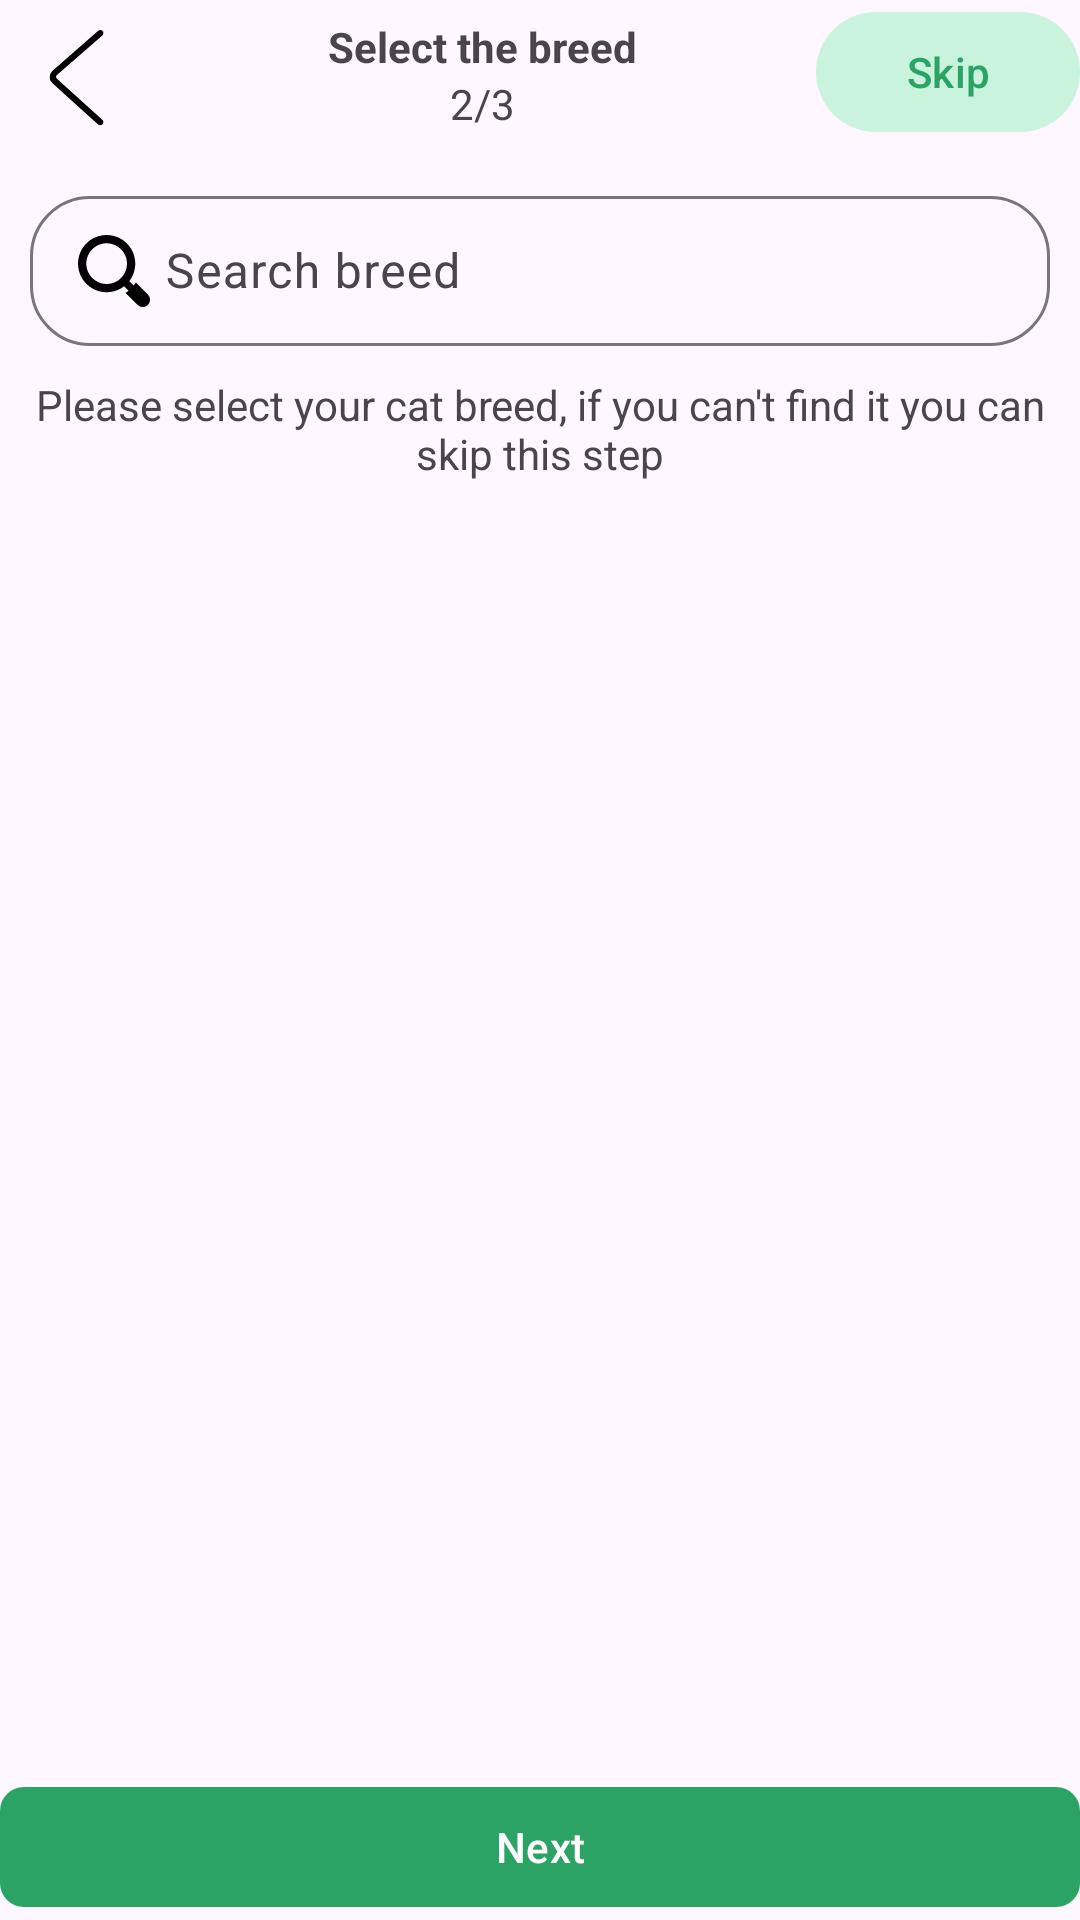

Named icons in this screenshot (1080×1920) and their centers, point (x, y):
back: point (76, 78)
